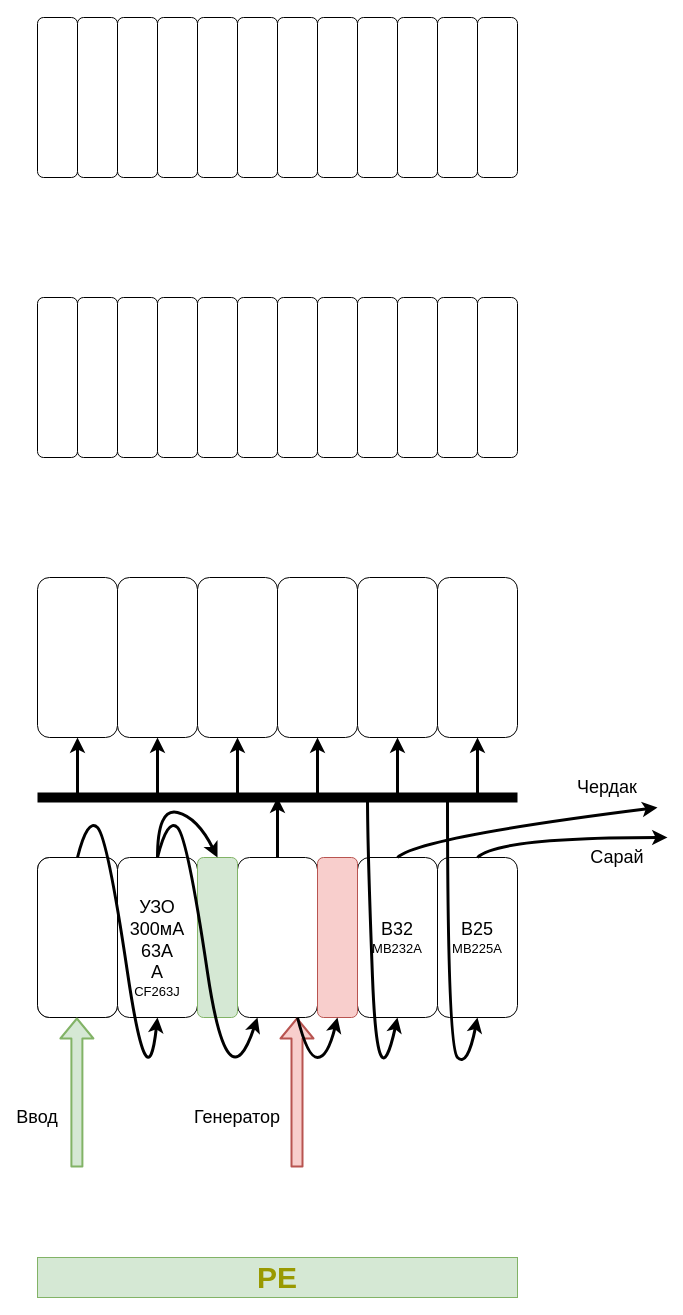
This 683x1315 diagram has some shape labels left out. The shapes that lost their labels are listed below. From the top down, each one's centre as x and y in pixels, then its label:
point (77, 937): B40 MB240A
point (277, 937): I-0-II 40A SFT 240
